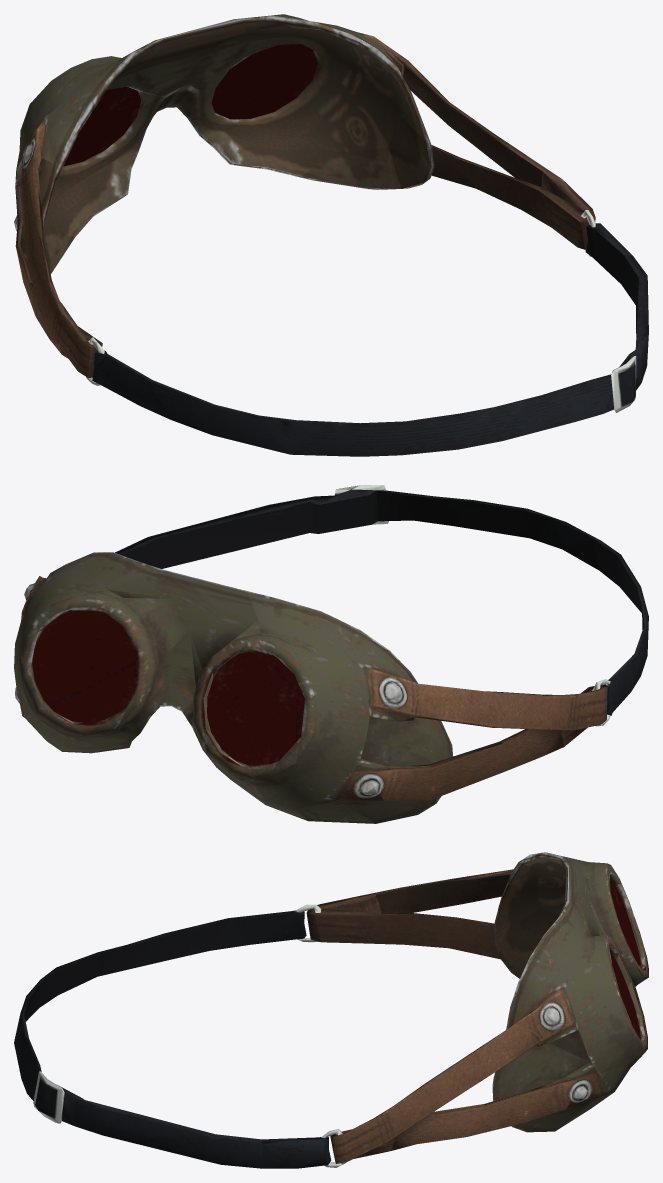
File: DustGoggles_Ground.fbx
3 views of the same model, one above another, from view 1: azimuth 30°, elevation 25°; view 2: azimuth 150°, elevation 25°; view 3: azimuth 270°, elevation 25° (orthographic). The views are drawn at different scales.
Parts seen in each view (by area): view 1: DustGoggles; view 2: DustGoggles; view 3: DustGoggles.
Boxes of the visible parts, x1,y1,x2,y2 form: DustGoggles: (14,14,648,456); DustGoggles: (14,485,648,823); DustGoggles: (14,852,648,1168).
Bounding box in the file's own units: 0.1266 × 0.0479 × 0.149.
